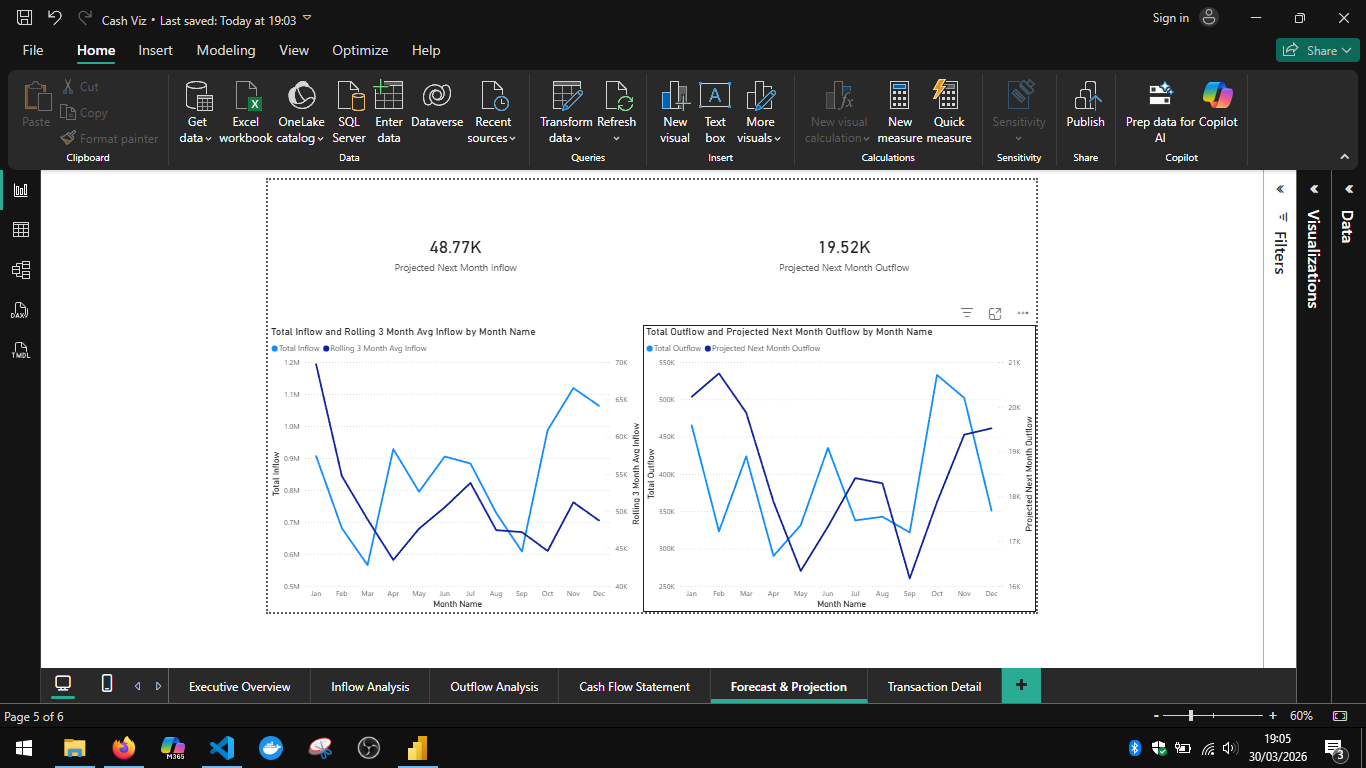

What the dashboard file says about the page in this screenshot:
{"tool":"powerbi","page":{"name":"Forecast & Projection","canvas":[1280,720],"ordinal":4},"visuals":[{"type":"card","fields":{"Values":["MeasuresTable.Projected Next Month Inflow"]},"box":[0,0,625,241.7],"z":0},{"type":"card","fields":{"Values":["MeasuresTable.Projected Next Month Outflow"]},"box":[640,0,640,241.7],"z":1},{"type":"lineChart","fields":{"Category":["DimDate.Month Name"],"Y":["MeasuresTable.Total Inflow"],"Y2":["MeasuresTable.Rolling 3 Month Avg Inflow"]},"box":[0,241.7,625,478.3],"z":2},{"type":"lineChart","fields":{"Category":["DimDate.Month Name"],"Y":["MeasuresTable.Total Outflow"],"Y2":["MeasuresTable.Projected Next Month Outflow"]},"box":[625,241.7,655,478.3],"z":3}]}

Visuals, with their boxes on the page's 1280x720 design canvas (x1, y1, x2, y2). These are canvas units, not pixel positions in the 1366x768 screenshot, which may show the page scaled, cropped or inside an application window:
card - MeasuresTable.Projected Next Month Inflow: bbox=(0, 0, 625, 242)
card - MeasuresTable.Projected Next Month Outflow: bbox=(640, 0, 1280, 242)
lineChart - DimDate.Month Name x MeasuresTable.Total Inflow: bbox=(0, 242, 625, 720)
lineChart - DimDate.Month Name x MeasuresTable.Total Outflow: bbox=(625, 242, 1280, 720)
